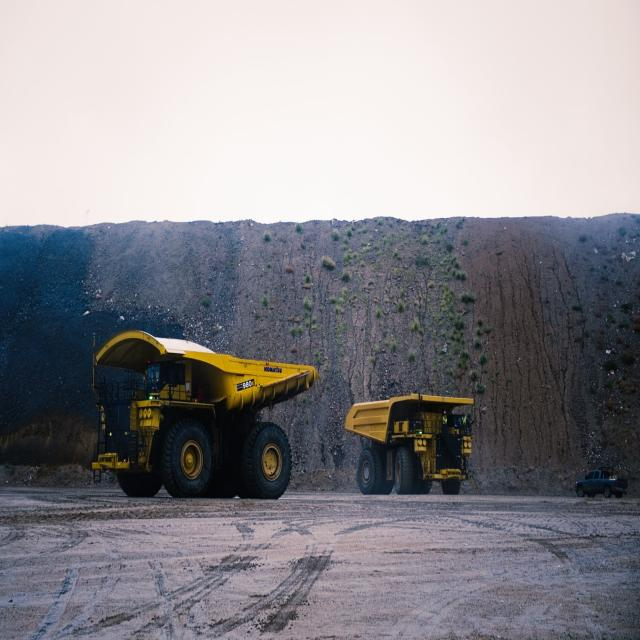dump_truck: (92, 321, 319, 500), (349, 387, 472, 500)
light_vehicle: (574, 463, 628, 510)
